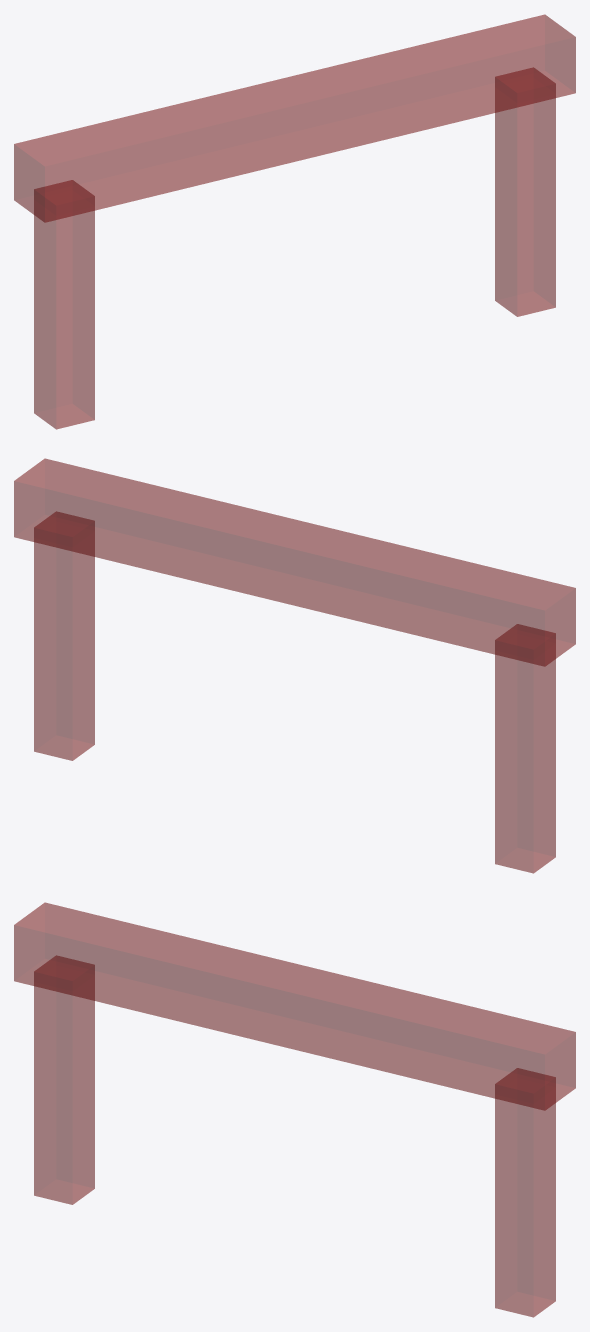
Rendered from SM_Prop_Gantry_01_Collision.fbx.
3 renders of one model, top to bottom at view 1: azimuth 30°, elevation 25°; view 2: azimuth 150°, elevation 25°; view 3: azimuth 330°, elevation 25°, orthographic.
Visible parts, largest first — view 1: SM_Prop_Gantry_01_Collision; view 2: SM_Prop_Gantry_01_Collision; view 3: SM_Prop_Gantry_01_Collision.
Part boxes in pixels (x1,y1,x2,y2): SM_Prop_Gantry_01_Collision: (14, 14, 575, 429); SM_Prop_Gantry_01_Collision: (14, 458, 575, 873); SM_Prop_Gantry_01_Collision: (14, 902, 575, 1317).
Bounding box in the file's own units: 1515 × 736 × 153.
